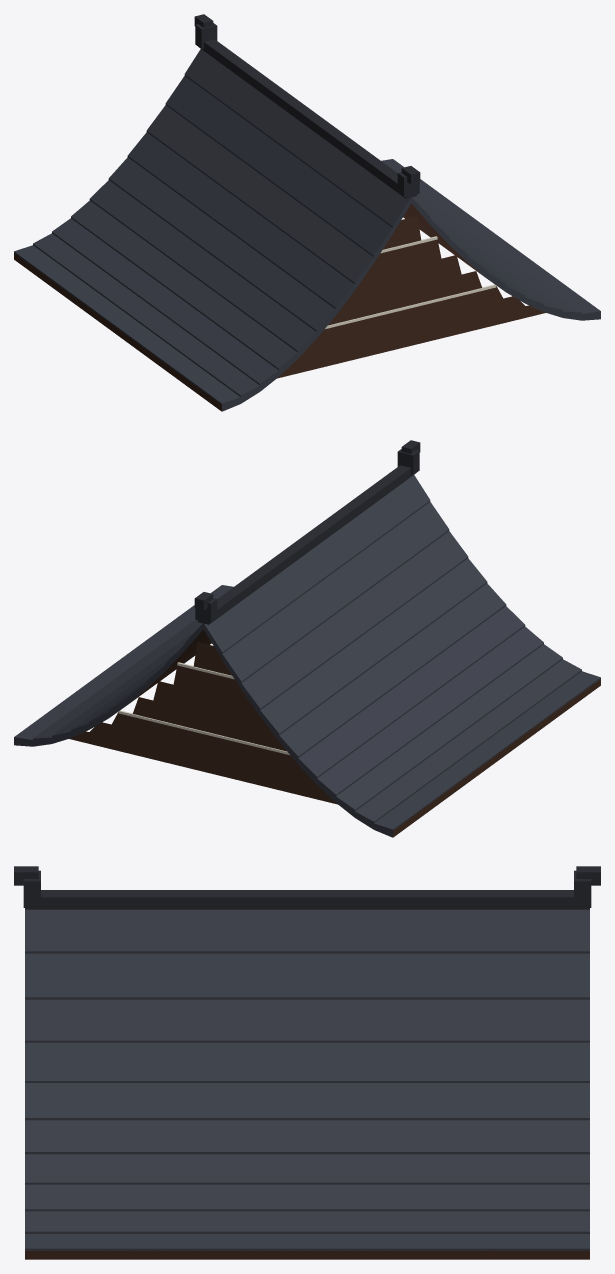
File: jap-telhado-4x4.gltf
The picture shows the model from 3 angles, top to bottom: view 1: azimuth 30°, elevation 25°; view 2: azimuth 150°, elevation 25°; view 3: azimuth 270°, elevation 25°; orthographic projection. The views are drawn at different scales.
Parts seen in each view (by area): view 1: jap-telhado-4x4; view 2: jap-telhado-4x4; view 3: jap-telhado-4x4.
Part boxes in pixels (x1,y1,x2,y2): jap-telhado-4x4: (14,14,600,411); jap-telhado-4x4: (14,440,600,837); jap-telhado-4x4: (14,866,600,1259).
Size of the model in its own units: 4.84 by 2.38 by 4.78.
